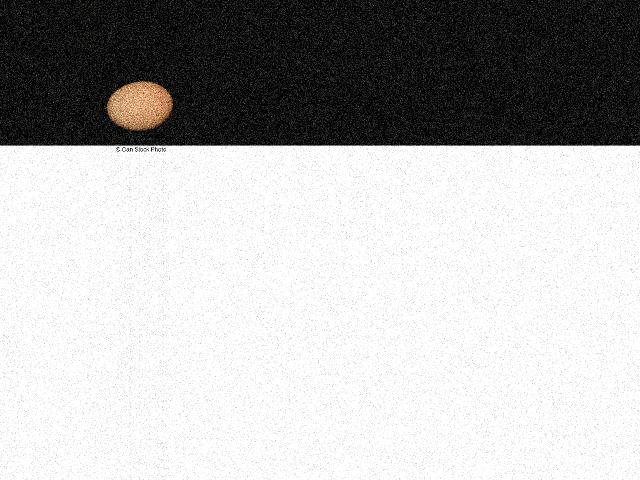egg: (107, 82, 173, 132)
